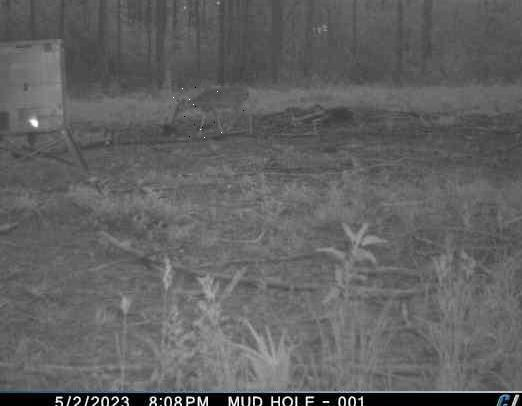Deer: (172, 84, 255, 140)
